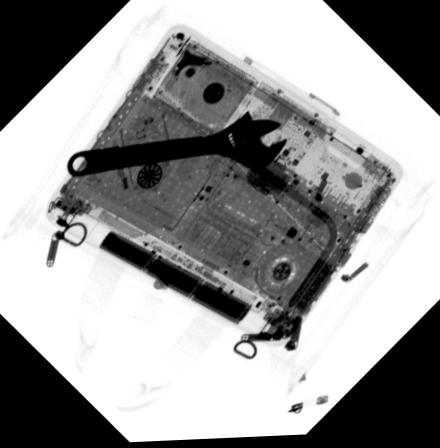Wrench: (65, 112, 287, 178)
